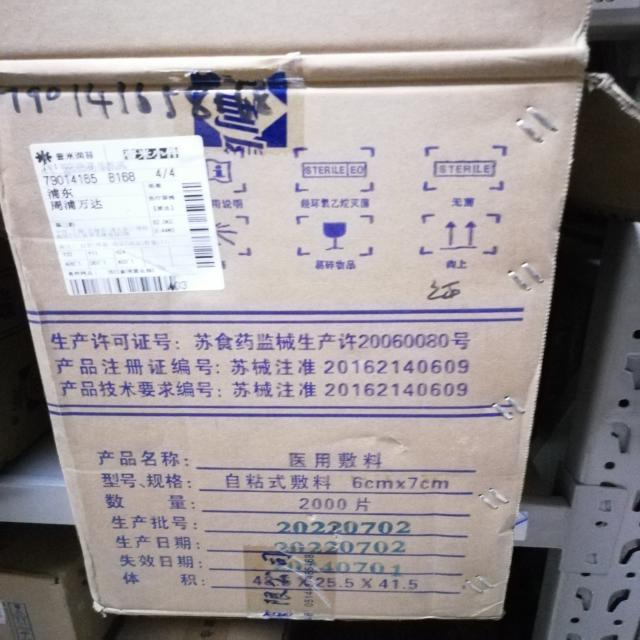box: (0, 0, 592, 620), (0, 530, 110, 640)
